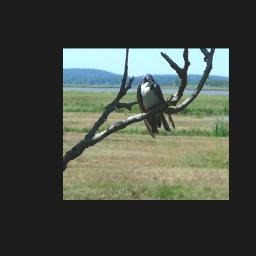Swallow: (135, 72, 177, 140)
